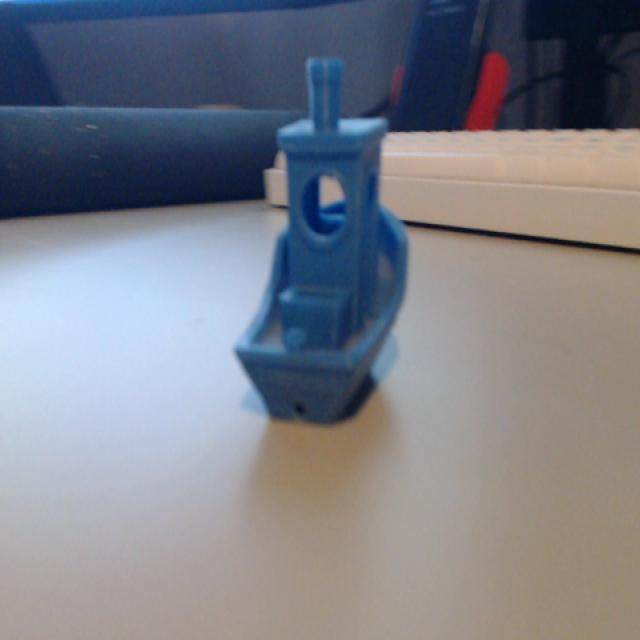benchy: (232, 51, 412, 432)
